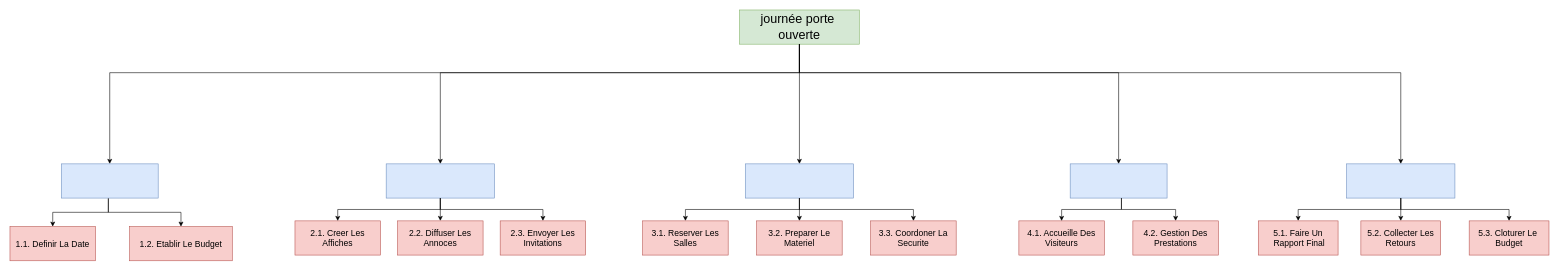
The diagram is 1559 pixels wide and 271 high, and some of its shapes have lost their labels. The centre of each missing label's shape, as x and y in pixels:
"1. Planification" goes at (109,180).
"2. Communication Et Invitation" goes at (440,180).
"3. Logistique Et Installation" goes at (799,180).
"4. Deroulement" goes at (1118,180).
"5. Evaluation Et Cloture" goes at (1400,180).
